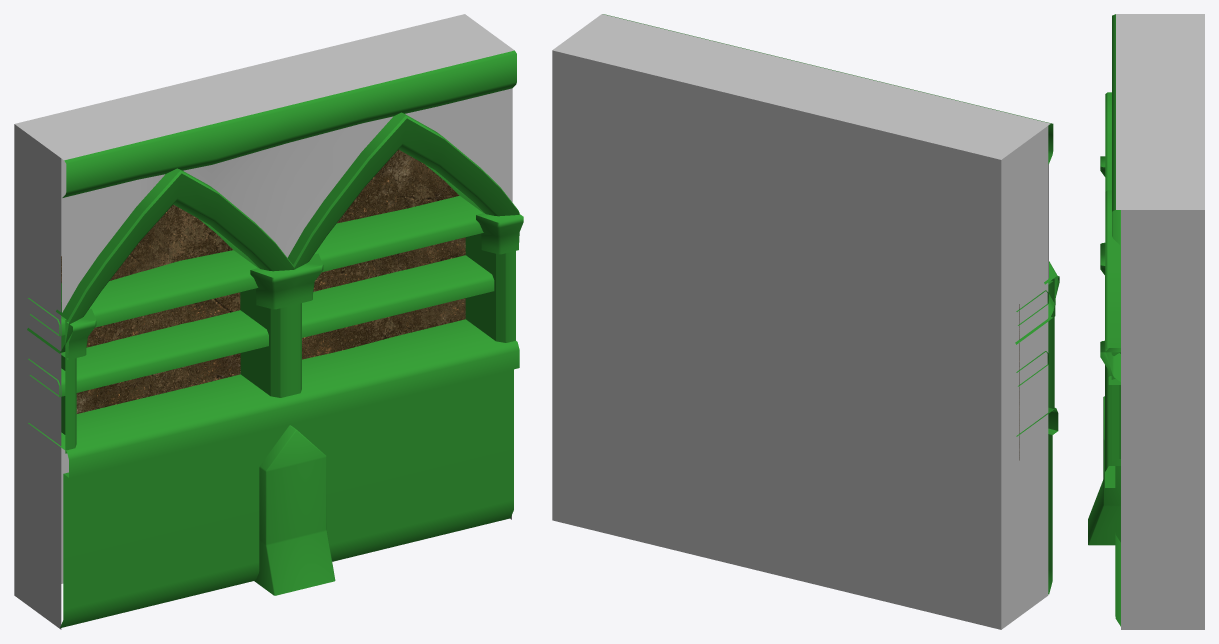
Rendered from DG_WallGothic_Shelf_A.FBX.
The picture shows the model from 3 angles, left to right: view 1: azimuth 30°, elevation 25°; view 2: azimuth 150°, elevation 25°; view 3: azimuth 270°, elevation 25°; orthographic projection. The views are drawn at different scales.
Visible parts, largest first — view 1: DG_WallGothic_Shelf_A; view 2: DG_WallGothic_Shelf_A; view 3: DG_WallGothic_Shelf_A.
Part boxes in pixels (x1,y1,x2,y2): DG_WallGothic_Shelf_A: (14, 14, 523, 629); DG_WallGothic_Shelf_A: (552, 14, 1059, 629); DG_WallGothic_Shelf_A: (1088, 14, 1204, 629).
Size of the model in its own units: 301 by 300 by 75.6.
